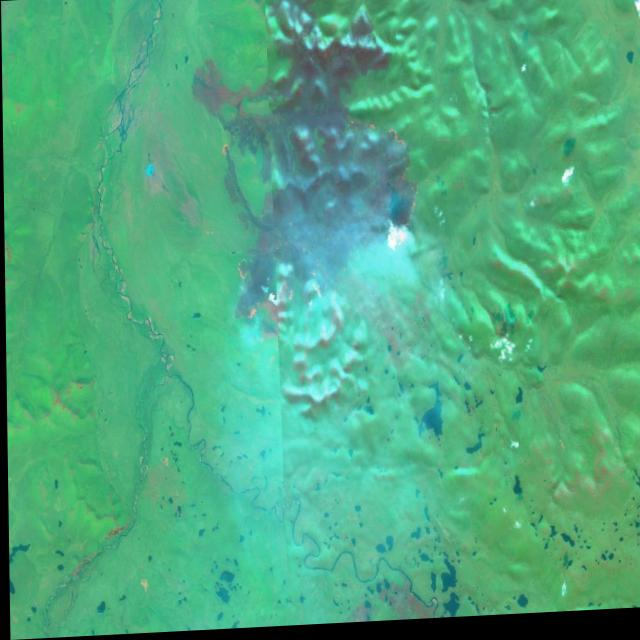fire: (336, 107, 421, 260), (221, 263, 329, 339), (208, 137, 239, 181)
